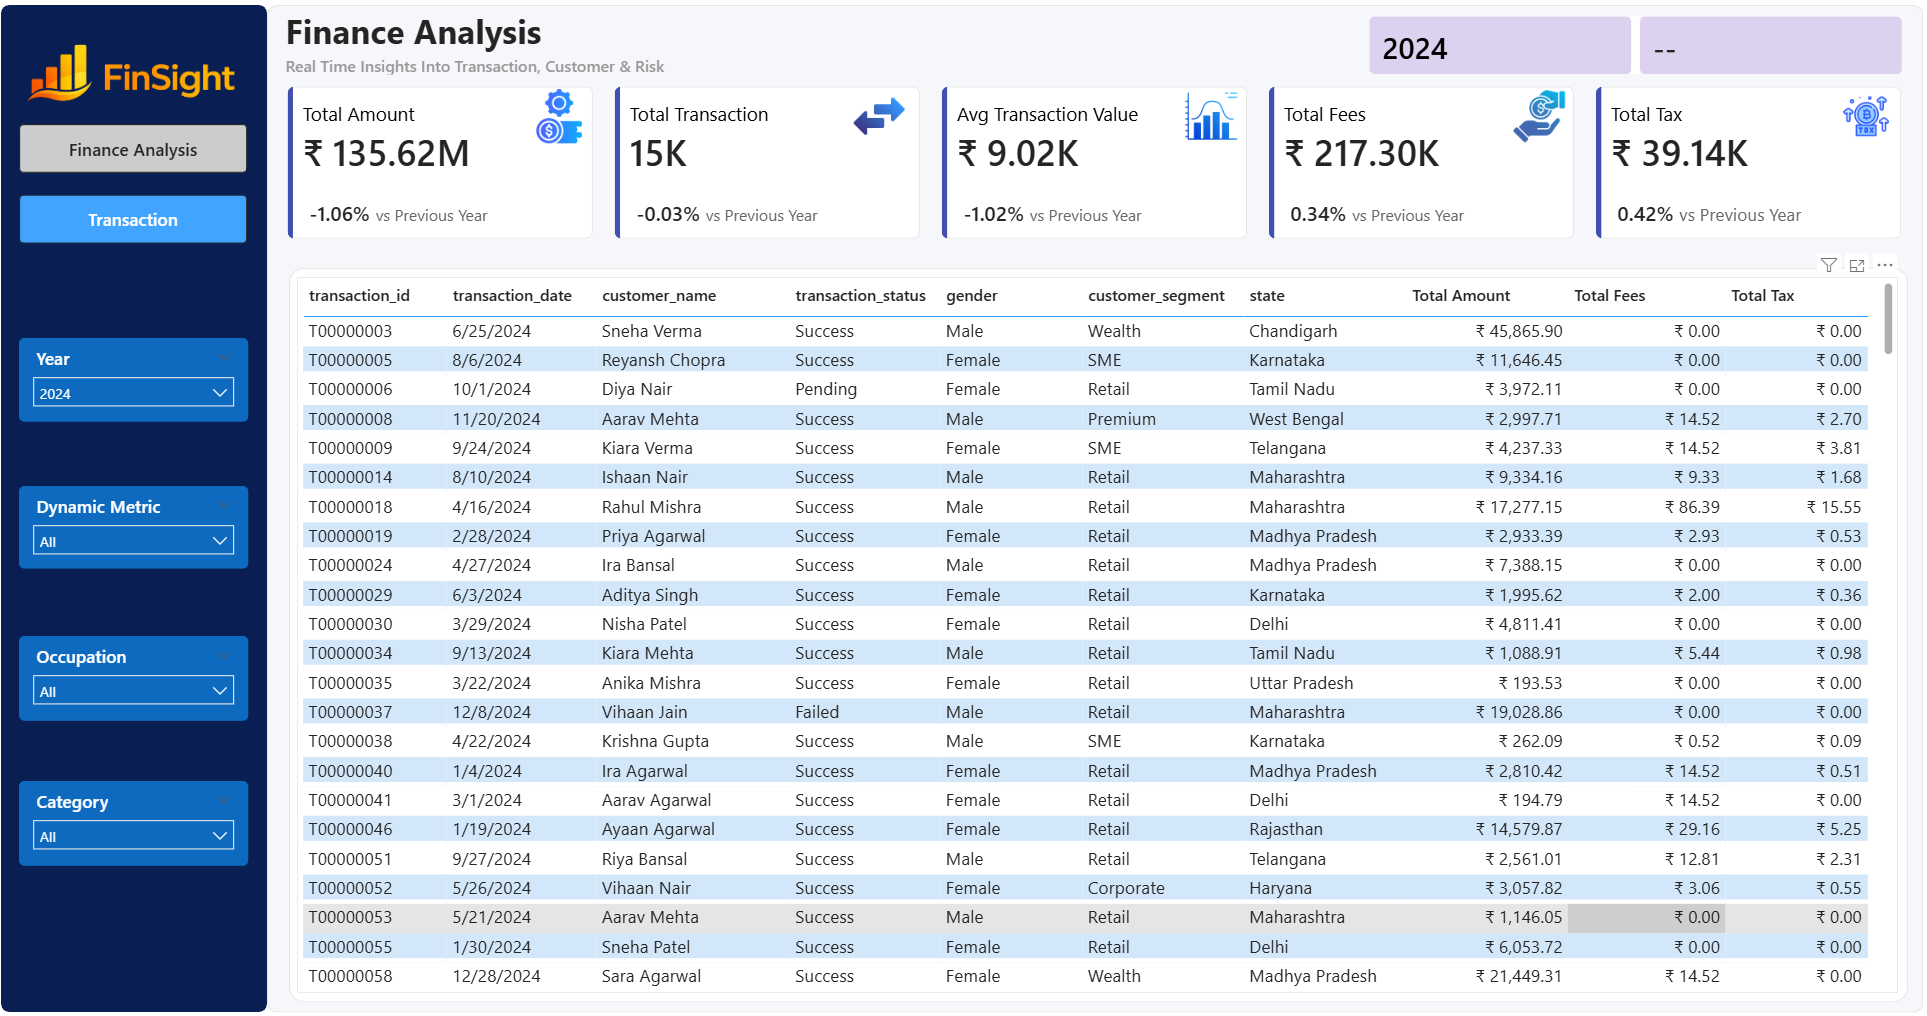

What the dashboard file says about the page in this screenshot:
{"tool":"powerbi","page":{"name":"Transaction","canvas":[1800,950],"ordinal":1},"visuals":[{"type":"shape","box":[12,11,244.8,926.7],"z":0},{"type":"shape","box":[256.9,10.9,1524.3,927.3],"z":1000},{"type":"image","box":[28.5,11,210.7,126.1],"z":2000},{"type":"cardVisual","fields":{"Data":["finance_transactions.Dashboard Title"]},"box":[256.7,11,387.4,69],"z":3000},{"type":"cardVisual","fields":{"Data":["finance_transactions.Total Amount","finance_transactions.Total Transaction","finance_transactions.Avg Transaction Value","finance_transactions.Total Fees","finance_transactions.Total Tax"]},"box":[269.5,79.9,1497.8,152.1],"z":4000},{"type":"image","box":[500.5,88.6,50.1,50],"z":5000},{"type":"image","box":[795.1,88.6,50.1,50.1],"z":6000},{"type":"image","box":[1402.5,88.6,50.1,50.1],"z":7000},{"type":"image","box":[1100.2,88.6,50.1,50.1],"z":8000},{"type":"image","box":[1703.7,88.6,50.1,50.1],"z":9000},{"type":"shape","box":[277,253.1,1489.9,675.5],"z":10000},{"type":"cardVisual","fields":{"Data":["finance_transactions.Selected Year","finance_transactions.Selected Dynamic Metric"]},"box":[1266.4,16.9,500.8,63.5],"z":11000},{"type":"tableEx","fields":{"Values":["finance_transactions.transaction_id","finance_transactions.transaction_date","customers.customer_name","finance_transactions.transaction_status","customers.gender","customers.customer_segment","customers.state","finance_transactions.Total Amount","finance_transactions.Total Fees","finance_transactions.Total Tax"]},"box":[284.3,261.8,1473.5,658.8],"z":12000},{"type":"slicer","fields":{"Values":["Date table.Year"]},"box":[28.4,317.6,210.8,77.5],"z":13000},{"type":"slicer","fields":{"Values":["Dynamic Metric.Dynamic Metric"]},"box":[28.4,453.9,210.8,76.5],"z":14000},{"type":"slicer","fields":{"Values":["customers.occupation"]},"box":[28.4,592.2,210.8,78.4],"z":15000},{"type":"slicer","fields":{"Values":["finance_transactions.merchant_category"]},"box":[28.4,725.5,210.8,78.4],"z":16000},{"type":"pageNavigator","box":[28.4,120.6,210.8,110.8],"z":17000}]}

Visuals, with their boxes on the page's 1800x950 design canvas (x1, y1, x2, y2). These are canvas units, not pixel positions in the 1927x1016 screenshot, which may show the page scaled, cropped or inside an application window:
shape: 12:11:257:938
shape: 257:11:1781:938
image: 28:11:239:137
cardVisual - finance_transactions.Dashboard Title: 257:11:644:80
cardVisual - finance_transactions.Total Amount x finance_transactions.Total Transaction: 270:80:1767:232
image: 500:89:551:139
image: 795:89:845:139
image: 1402:89:1453:139
image: 1100:89:1150:139
image: 1704:89:1754:139
shape: 277:253:1767:929
cardVisual - finance_transactions.Selected Year x finance_transactions.Selected Dynamic Metric: 1266:17:1767:80
tableEx - finance_transactions.transaction_id x finance_transactions.transaction_date: 284:262:1758:921
slicer - Date table.Year: 28:318:239:395
slicer - Dynamic Metric.Dynamic Metric: 28:454:239:530
slicer - customers.occupation: 28:592:239:671
slicer - finance_transactions.merchant_category: 28:726:239:804
pageNavigator: 28:121:239:231
